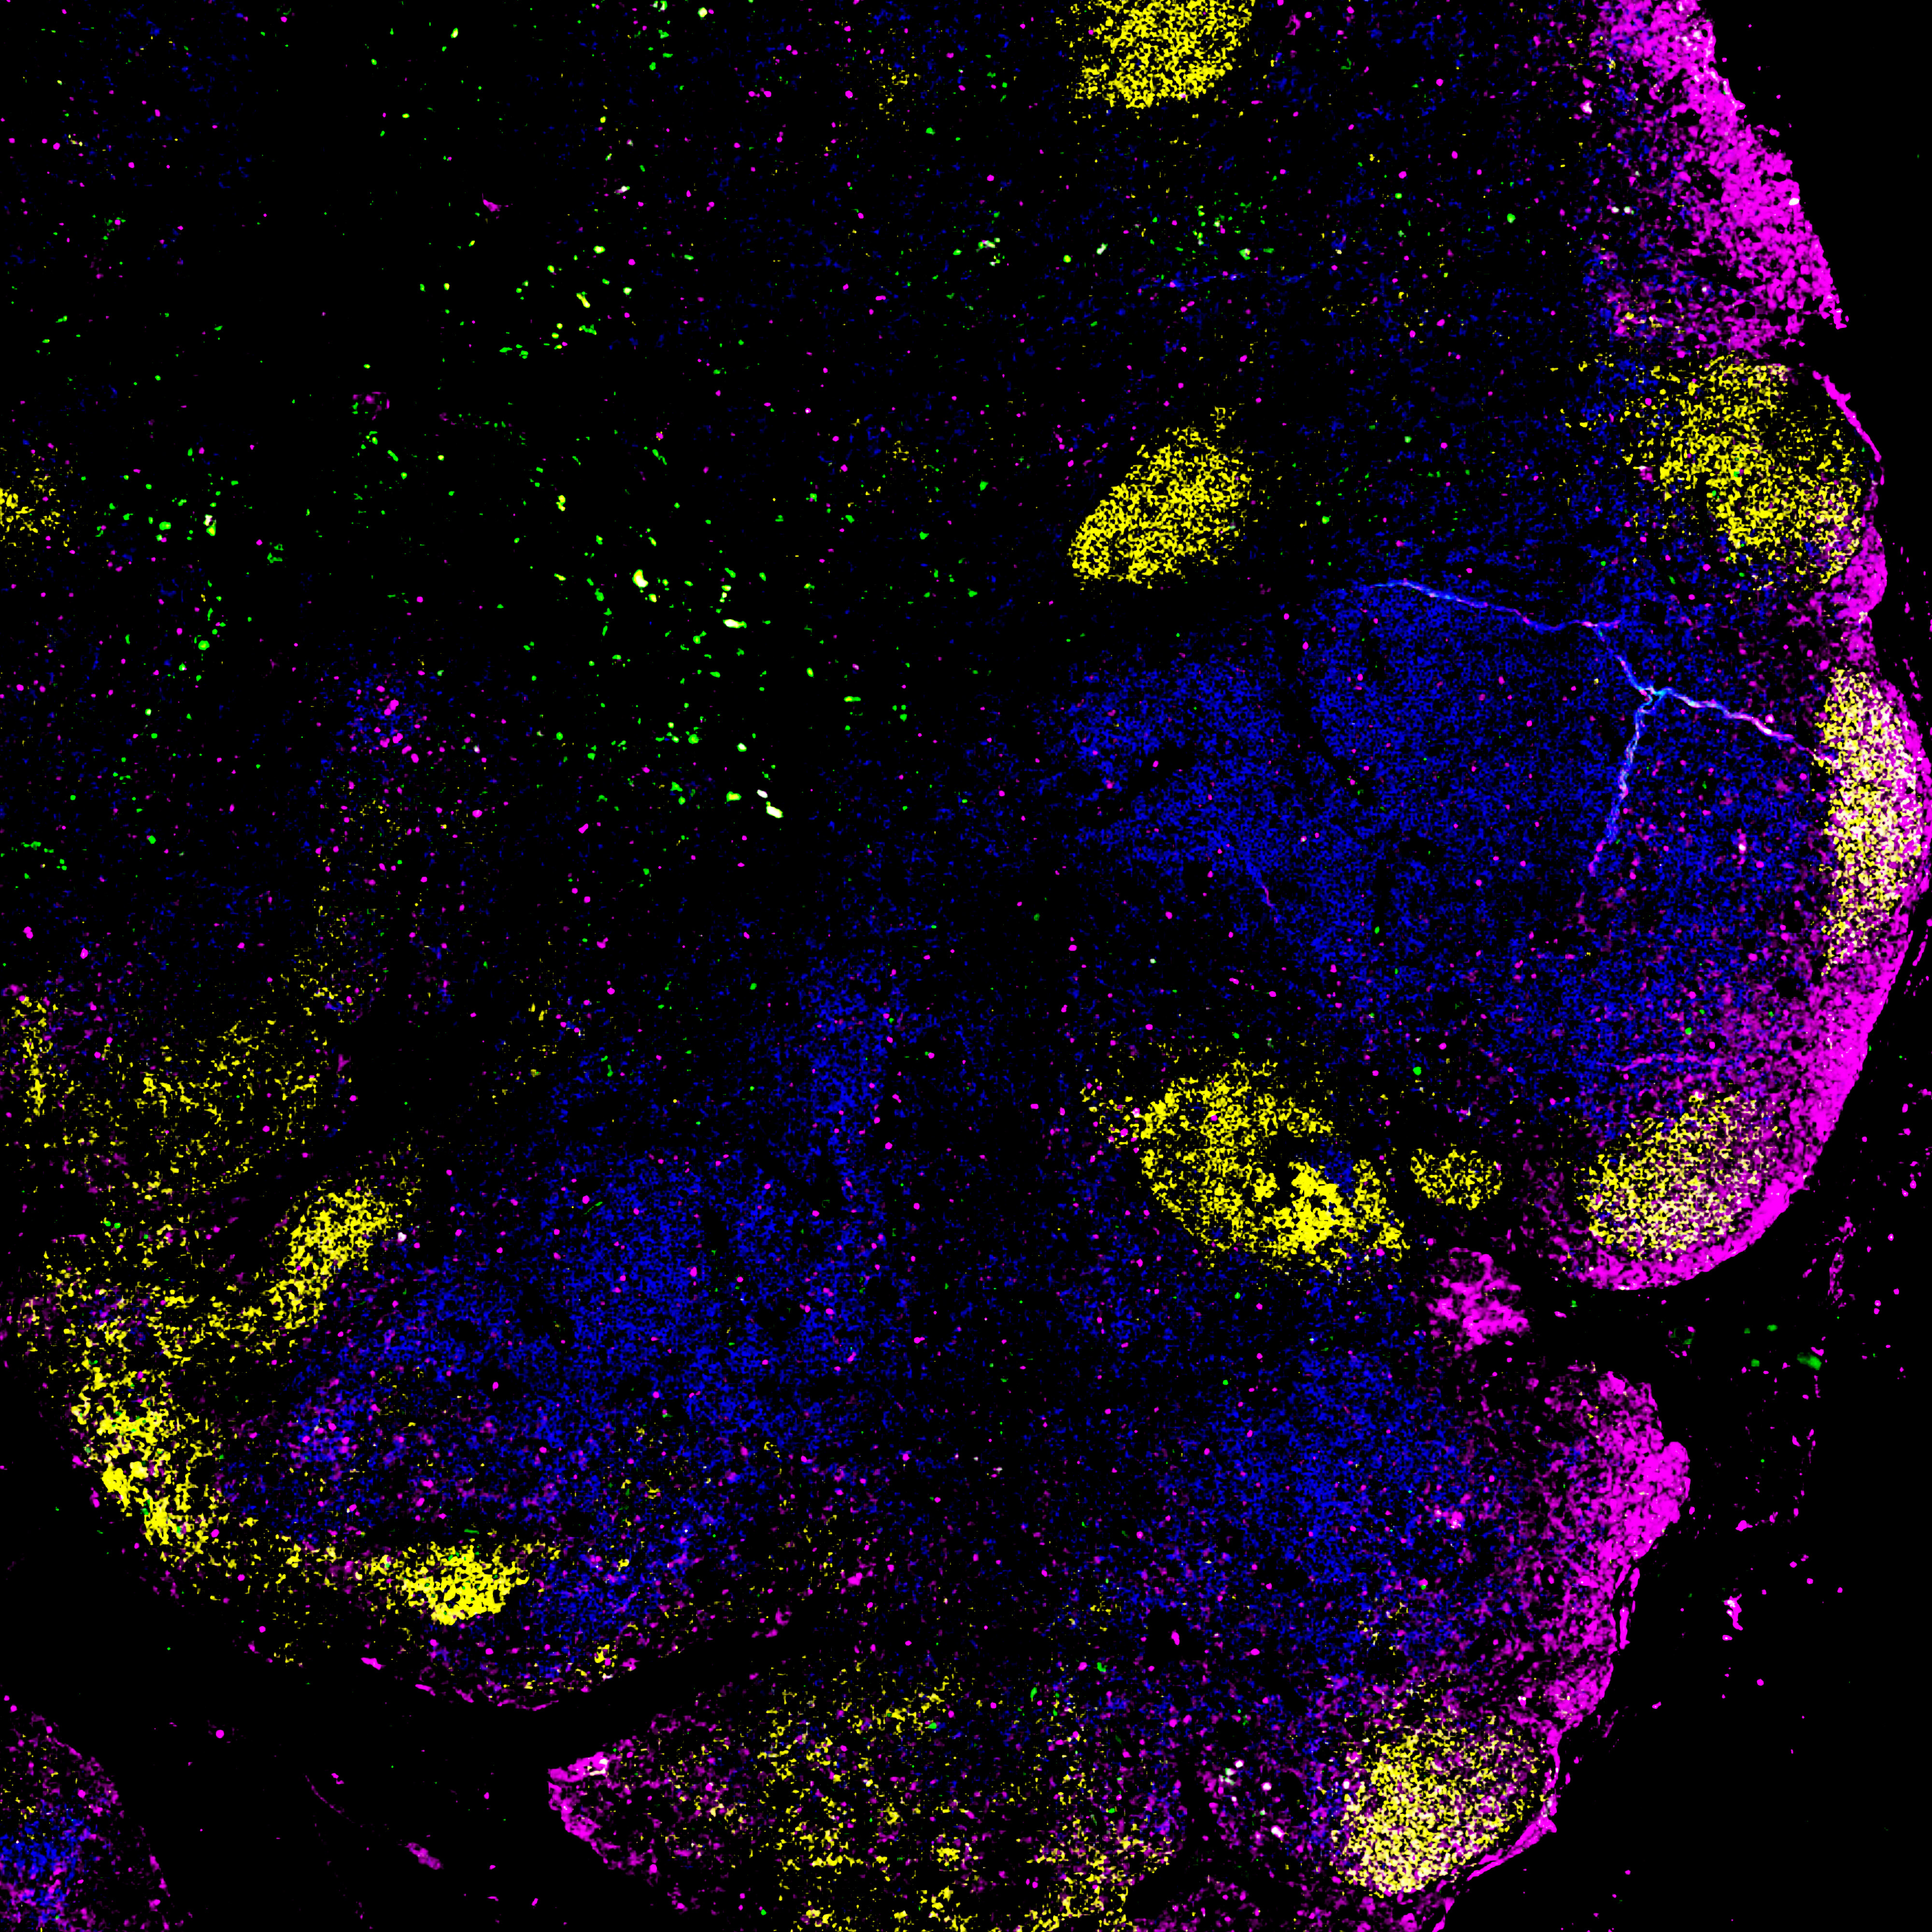COVID19: (58, 189, 1545, 1399)
